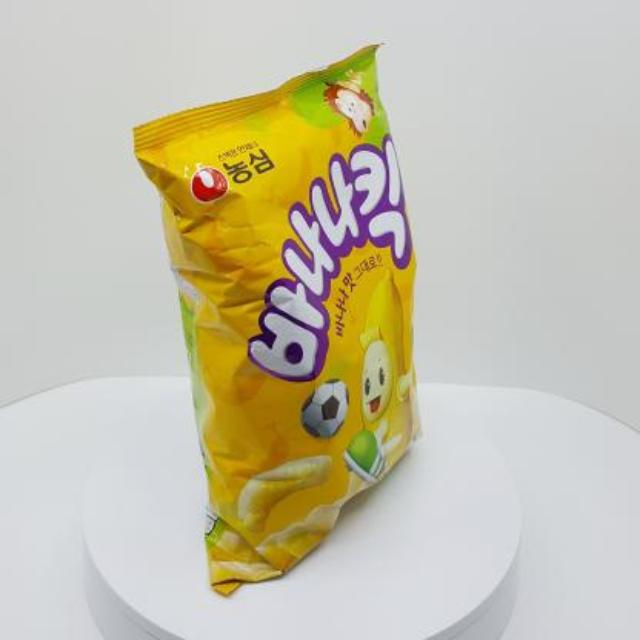snack_bag: (128, 33, 442, 605)
